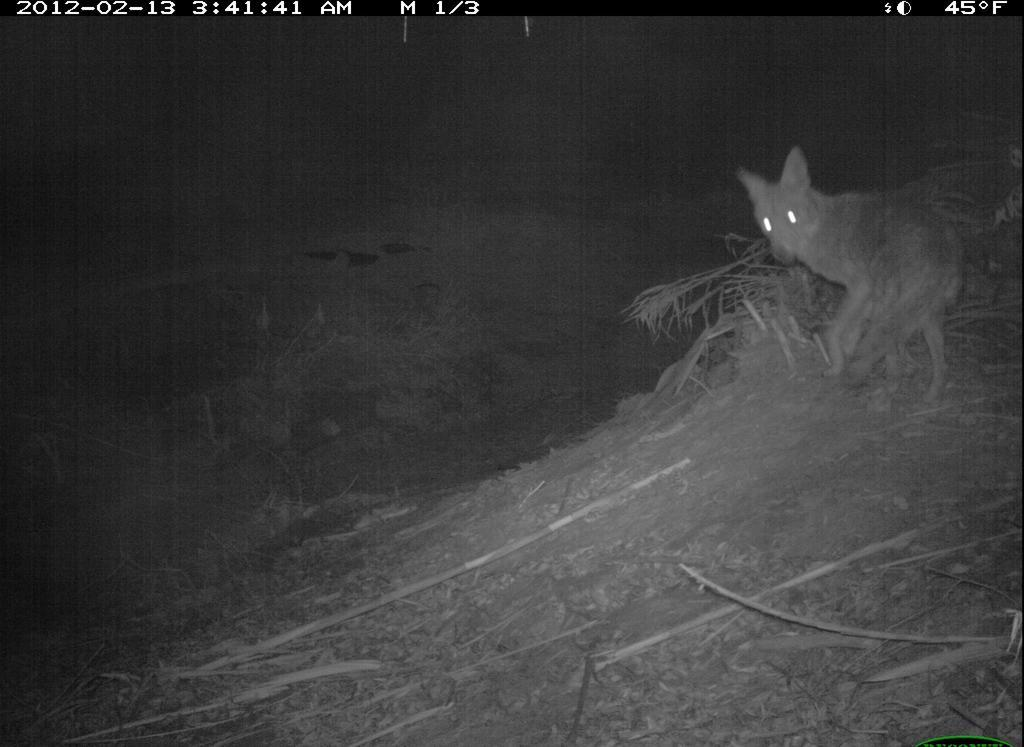coyote: (735, 140, 973, 419)
